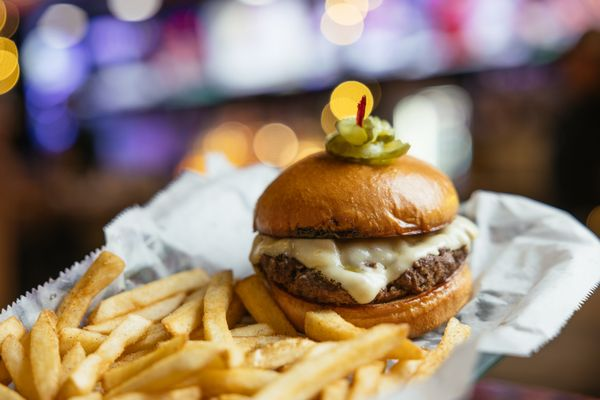soup: (244, 106, 480, 341)
